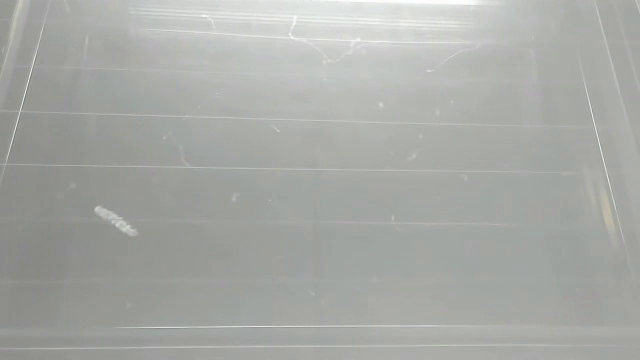alpha: (91, 203, 143, 241)
